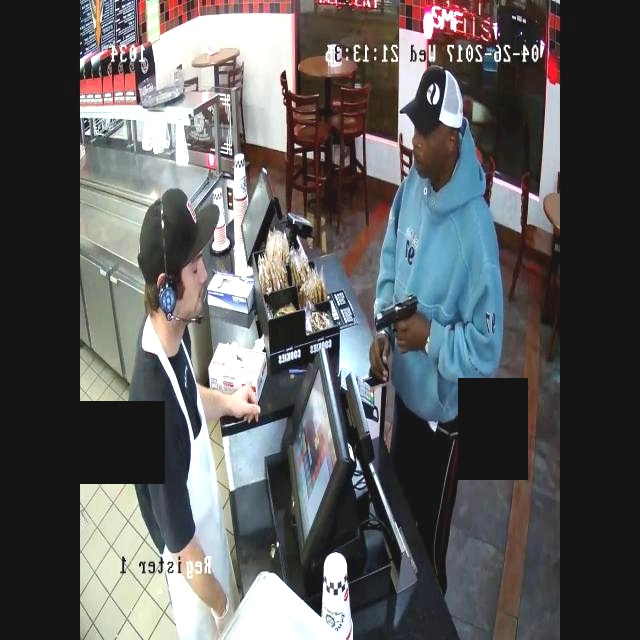gun: (366, 281, 430, 359)
